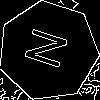N: (23, 26, 79, 74)
